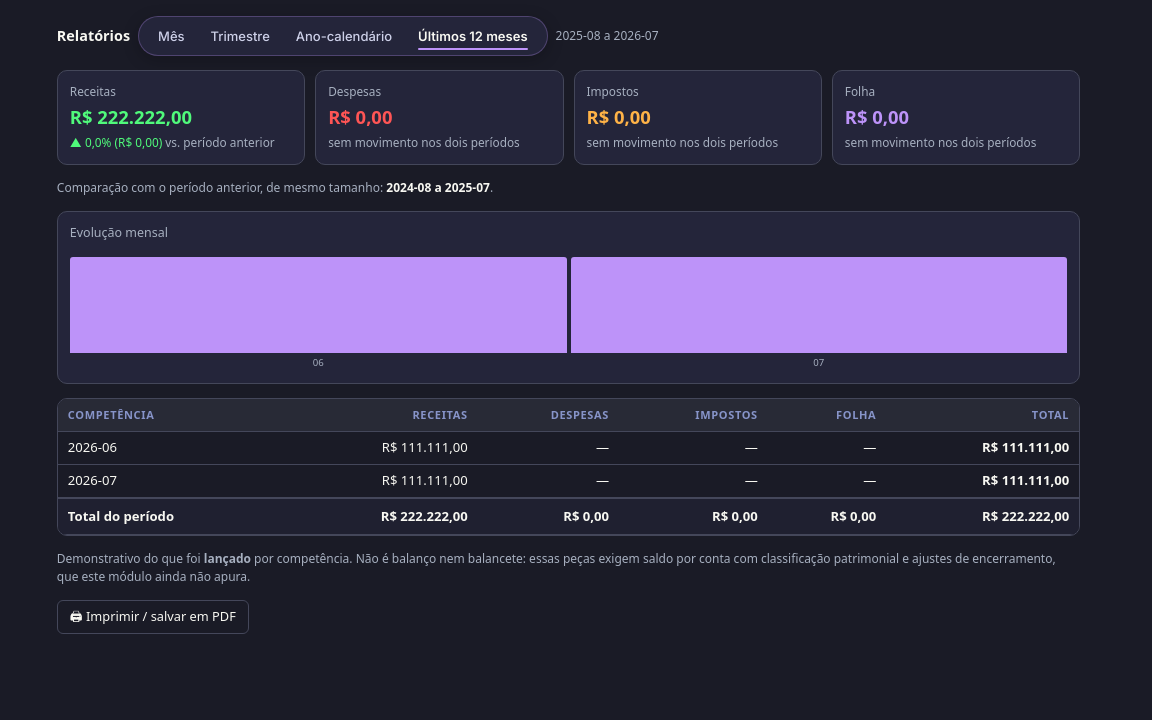
RelatoriosTab — recarga que falha não deixa o período anterior na tela › ⚠ o total do período ANTERIOR some, e o Imprimir vai junto
The width and height of the screenshot is (1152, 720).
Expected: the button "🖨 Imprimir / salvar em PDF" is shown, [57,600,249,634]
Expected: the text "R$ 222.222,00" is shown, [70,104,192,129]
Click the button "Mês" at (171, 36), box [147,21,196,51]
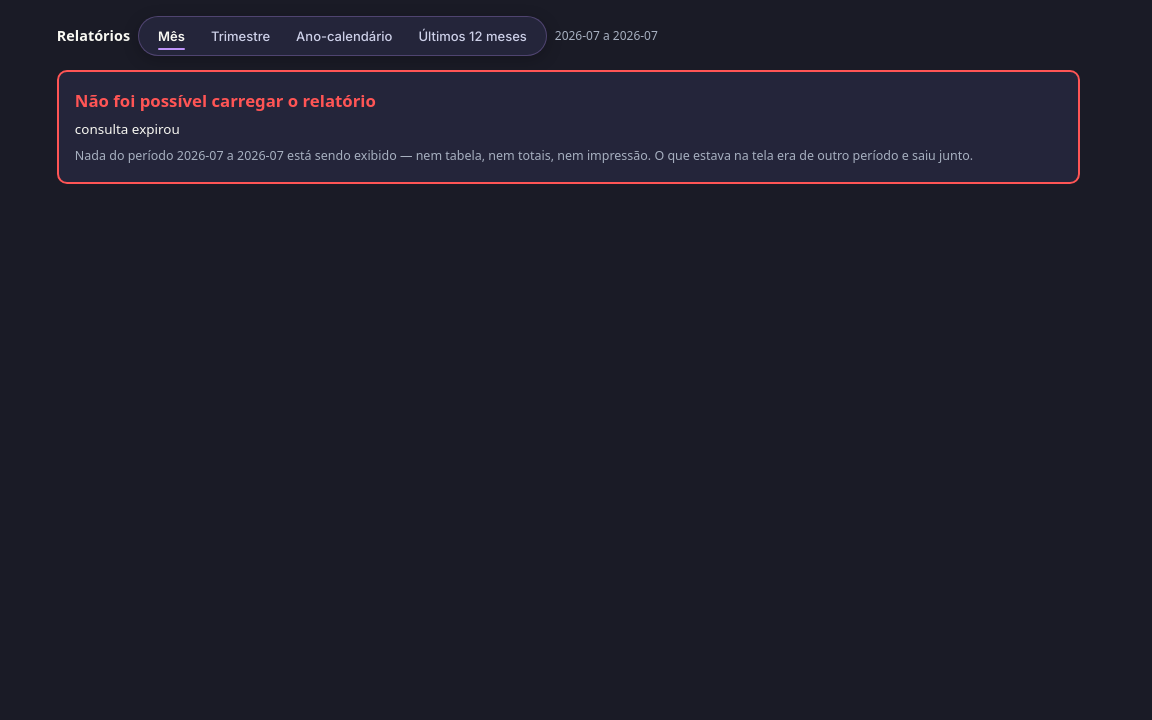
Result: the text "Não foi possível carregar o relatório" is shown at [75,89,376,112]
Result: the text "222.222,00" is gone
Result: the text "111.111,00" is gone
